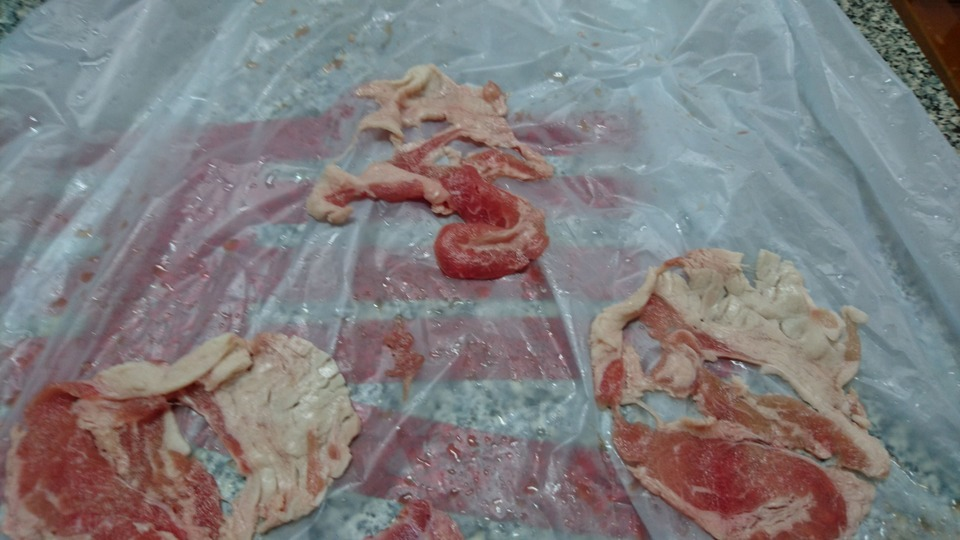restructured meat: (591, 242, 895, 540), (1, 328, 357, 540), (307, 66, 558, 277)
